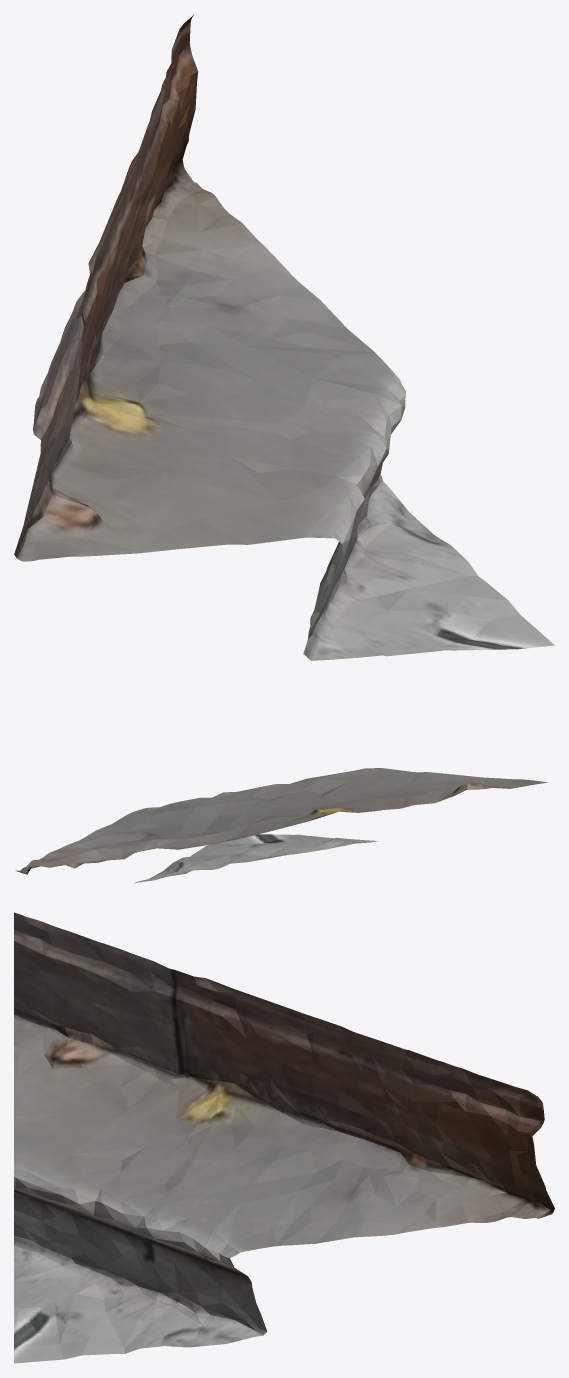
The picture shows the model from 3 angles, top to bottom: view 1: azimuth 30°, elevation 25°; view 2: azimuth 150°, elevation 25°; view 3: azimuth 270°, elevation 25°; orthographic projection. The views are drawn at different scales.
Size of the model in its own units: 0.6809 by 0.4419 by 0.8116.
2 materials, 2 textured.
